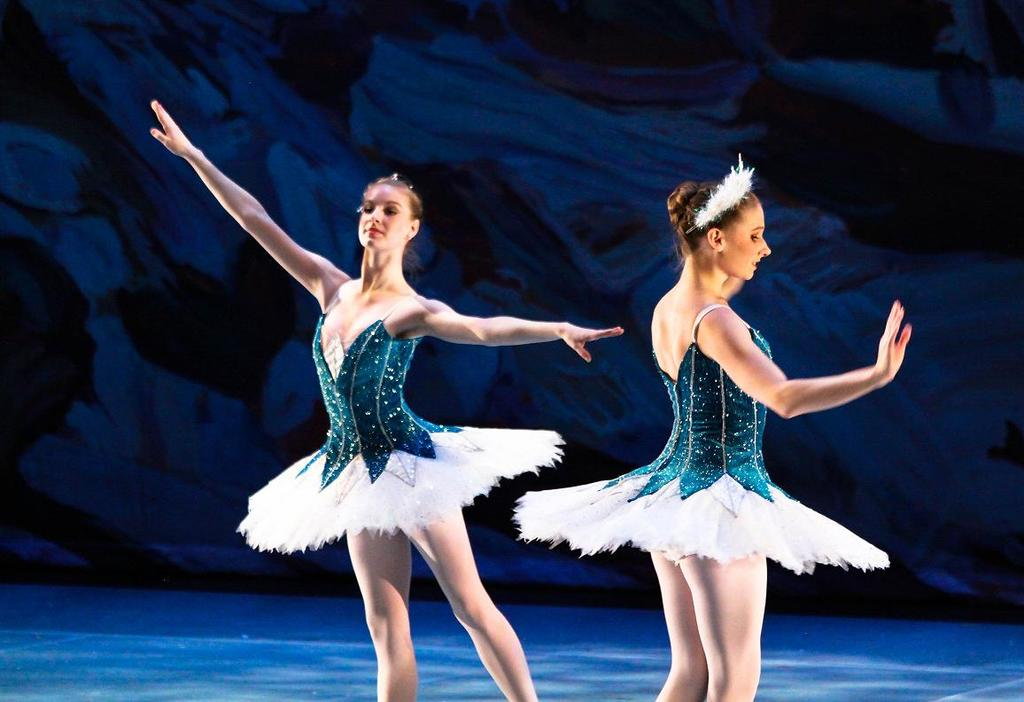Person: (150, 100, 623, 702), (509, 152, 911, 701)
